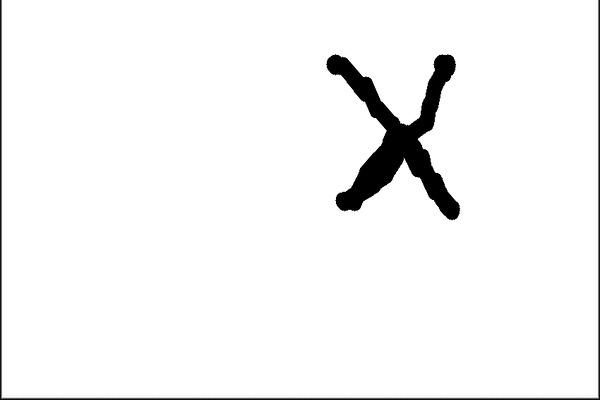X: (299, 33, 474, 237)
